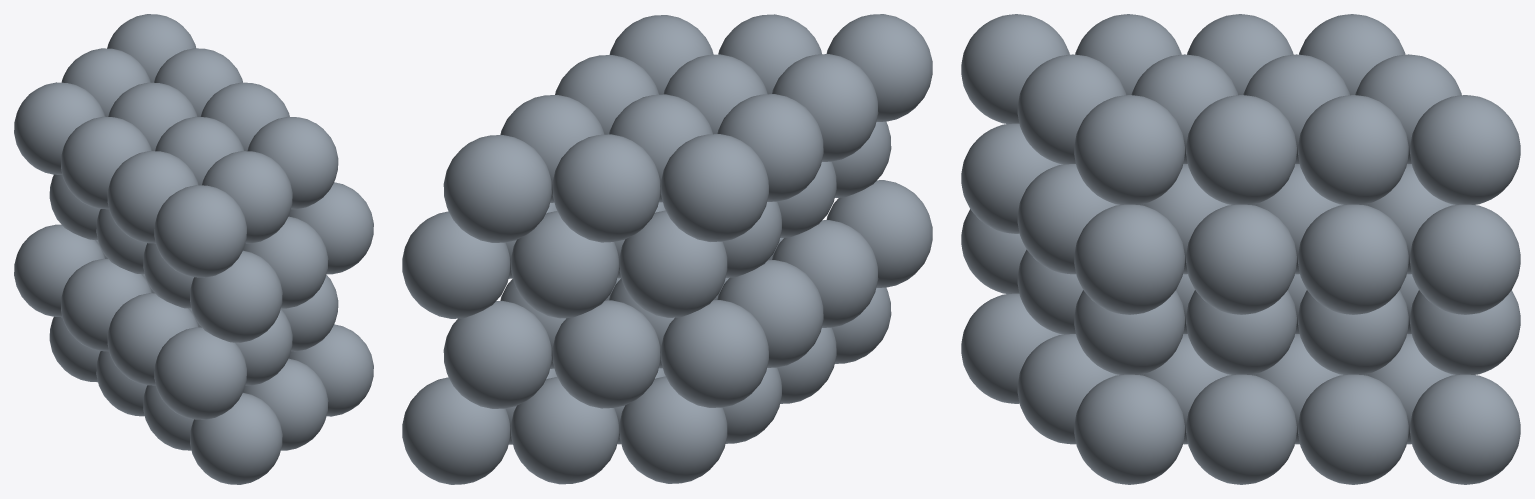
The picture shows the model from 3 angles, left to right: view 1: azimuth 30°, elevation 25°; view 2: azimuth 150°, elevation 25°; view 3: azimuth 270°, elevation 25°; orthographic projection. The views are drawn at different scales.
Visible parts, largest first — view 1: GeoSphere404; view 2: GeoSphere404; view 3: GeoSphere404.
Boxes of the visible parts, bbox=[...] form: GeoSphere404: bbox=[14, 14, 373, 484]; GeoSphere404: bbox=[402, 14, 932, 484]; GeoSphere404: bbox=[961, 14, 1520, 484].
Bounding box in the file's own units: 126 × 142 × 201.
1 material, 1 textured.
